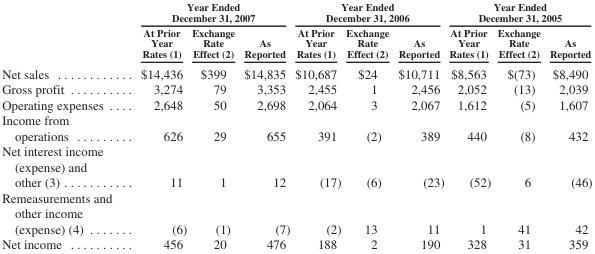table: (1, 0, 591, 250)
table column: (1, 0, 125, 250), (125, 0, 188, 250), (392, 0, 446, 250), (238, 0, 291, 250), (291, 0, 342, 250), (493, 0, 544, 250), (188, 0, 238, 250), (342, 0, 392, 250), (446, 0, 493, 250), (544, 0, 591, 250)
table column header: (1, 0, 591, 62)
table row: (1, 142, 591, 189), (1, 189, 591, 235), (1, 24, 591, 62), (1, 111, 591, 142), (1, 0, 591, 24), (1, 62, 591, 80), (1, 80, 591, 96), (1, 96, 591, 111), (1, 235, 591, 250)
table spanning cell: (125, 0, 291, 24), (291, 0, 446, 24), (446, 0, 591, 24)
